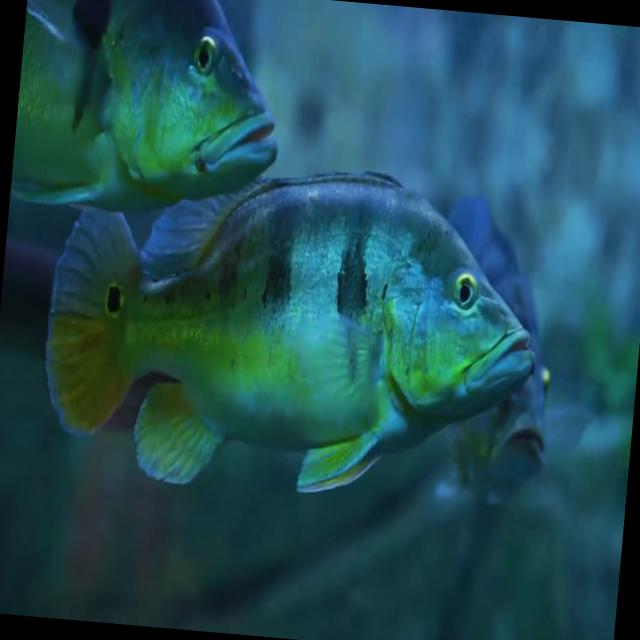fish: (32, 136, 554, 512), (9, 0, 301, 227), (414, 150, 579, 503)
